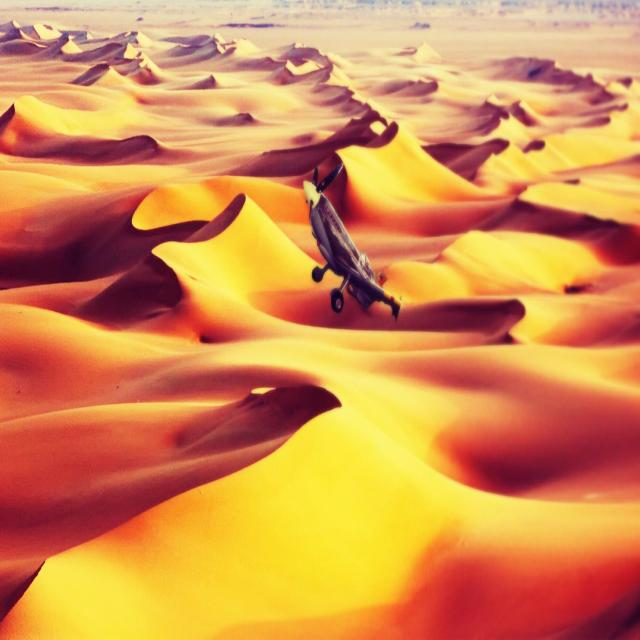airplane: (302, 162, 402, 322)
